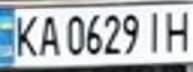0: (63, 11, 87, 56)
2: (103, 10, 124, 56)
6: (84, 10, 106, 56)
9: (118, 9, 145, 56)
A: (33, 11, 60, 57)
H: (160, 6, 193, 53)
I: (142, 7, 169, 55)
K: (9, 10, 42, 58)
